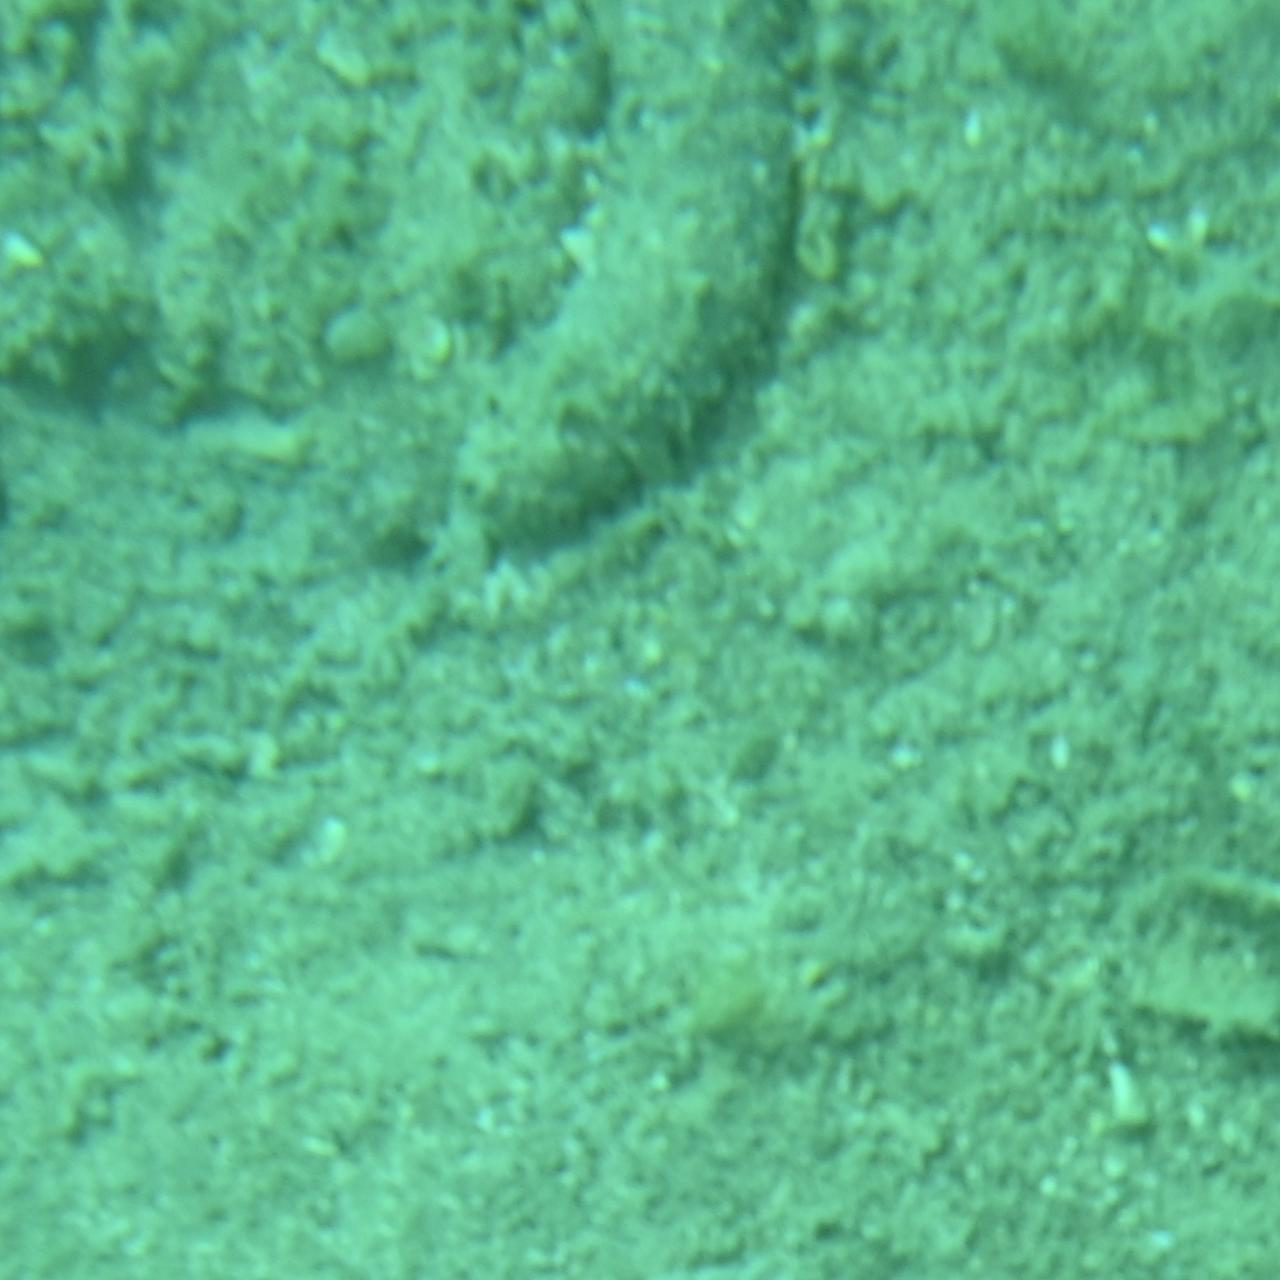Holothuria tubulosa: (463, 0, 817, 558)
